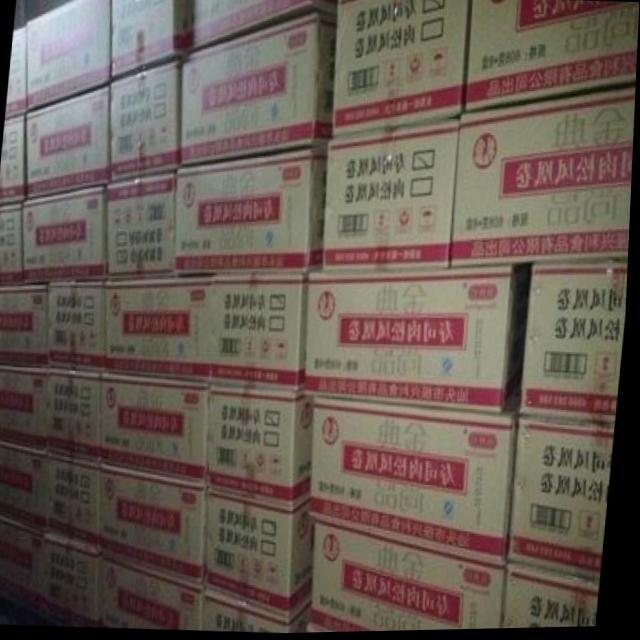box: (314, 394, 523, 567), (452, 87, 637, 270), (307, 267, 531, 414), (181, 15, 336, 164), (315, 519, 511, 634), (176, 139, 331, 279), (325, 116, 462, 271), (466, 0, 639, 114), (333, 0, 471, 139), (511, 417, 618, 585), (523, 263, 630, 428), (209, 487, 318, 620), (209, 387, 315, 511), (104, 466, 211, 588), (212, 272, 309, 398), (104, 372, 210, 487), (107, 276, 213, 385), (26, 81, 112, 198), (27, 0, 112, 110), (112, 55, 184, 181), (23, 188, 109, 283), (183, 0, 337, 53), (106, 553, 209, 630), (109, 172, 178, 279), (507, 563, 605, 631), (111, 0, 183, 81), (49, 276, 109, 372), (45, 534, 106, 628), (51, 453, 105, 553), (51, 368, 107, 464), (0, 514, 50, 613), (208, 588, 316, 633), (0, 441, 52, 532), (0, 364, 51, 453), (0, 282, 51, 367), (0, 110, 27, 205), (0, 202, 25, 285), (6, 25, 27, 120), (312, 624, 339, 634)
